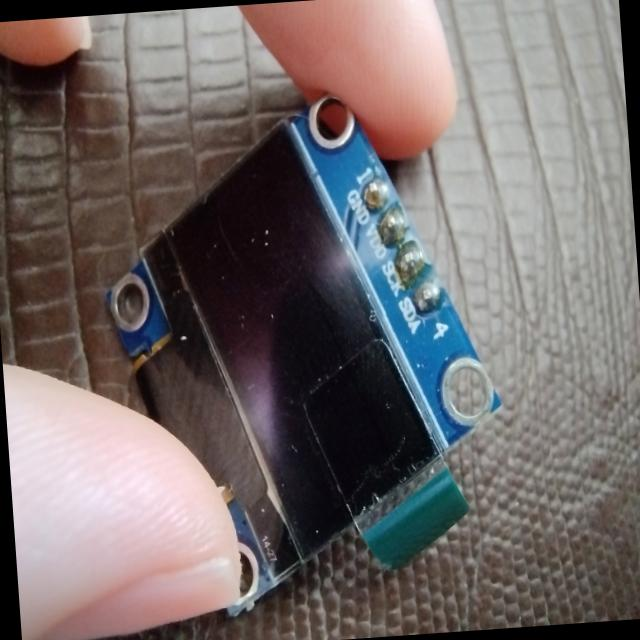oled: (85, 81, 517, 626)
